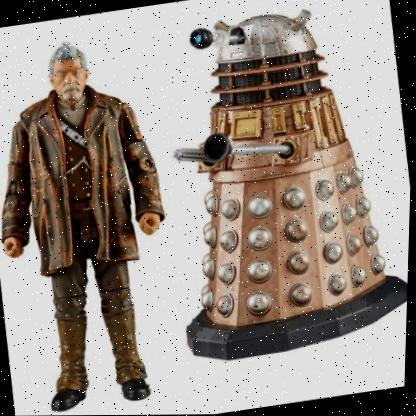dalek: (145, 0, 416, 370)
person: (0, 27, 198, 416)
